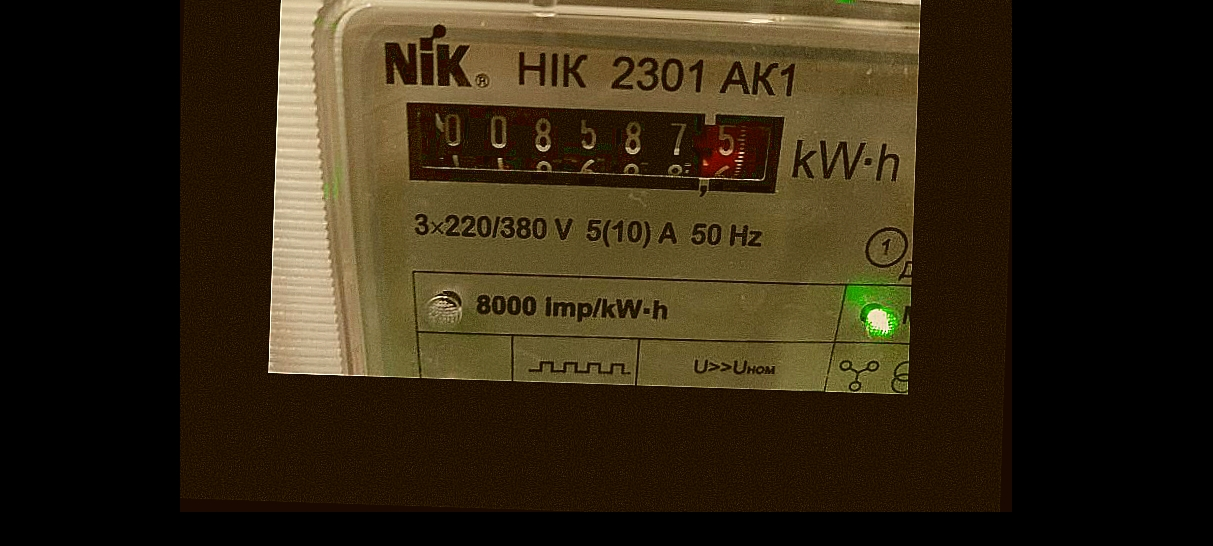0: (486, 110, 511, 151)
1: (440, 108, 465, 150)
5: (715, 118, 740, 159), (577, 114, 601, 153)
7: (666, 118, 690, 160)
8: (530, 113, 556, 155), (622, 116, 644, 158)
screen: (383, 81, 805, 214)
